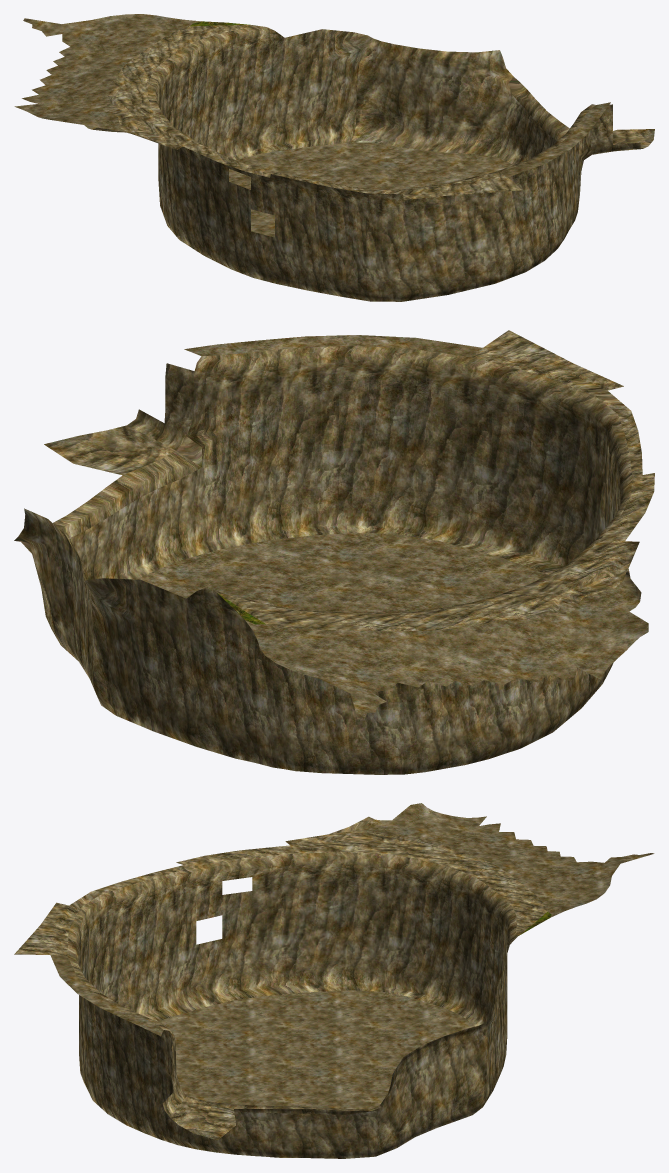
File: RM_PLAYSURFACE_FINAL_MESH05.fbx
The picture shows the model from 3 angles, top to bottom: view 1: azimuth 30°, elevation 25°; view 2: azimuth 150°, elevation 25°; view 3: azimuth 270°, elevation 25°; orthographic projection. The views are drawn at different scales.
Parts seen in each view (by area): view 1: RM_PLAYSURFACE_FINAL_MESH05; view 2: RM_PLAYSURFACE_FINAL_MESH05; view 3: RM_PLAYSURFACE_FINAL_MESH05.
Part boxes in pixels (<box>): RM_PLAYSURFACE_FINAL_MESH05: <box>14,14,654,301</box>; RM_PLAYSURFACE_FINAL_MESH05: <box>14,330,654,774</box>; RM_PLAYSURFACE_FINAL_MESH05: <box>14,803,654,1158</box>.
Bounding box in the file's own units: 504074 × 117642 × 510751.
Materials: 4 (4 with a texture image).
